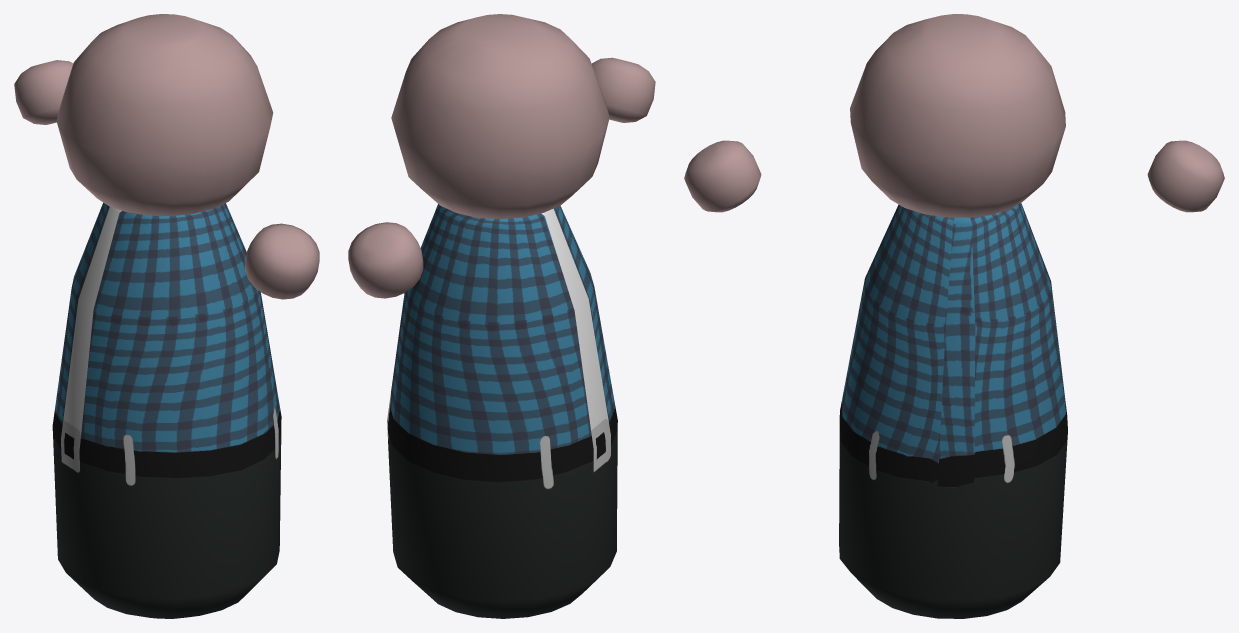
Rendered from Bandmember2.fbx.
3 renders of one model, left to right at view 1: azimuth 30°, elevation 25°; view 2: azimuth 150°, elevation 25°; view 3: azimuth 270°, elevation 25°, orthographic.
Parts seen in each view (by area): view 1: Body, Head, Right_Hand, Left_Hand; view 2: Body, Head, Left_Hand, Right_Hand; view 3: Body, Head, Left_Hand, Right_Hand.
Part boxes in pixels (left/top/right/bottom): Body: left=52, top=202, right=281, bottom=618; Head: left=56, top=14, right=273, bottom=216; Right_Hand: left=245, top=223, right=319, bottom=299; Left_Hand: left=14, top=60, right=73, bottom=124; Body: left=387, top=204, right=617, bottom=618; Head: left=391, top=14, right=609, bottom=219; Left_Hand: left=348, top=222, right=423, bottom=298; Right_Hand: left=591, top=57, right=655, bottom=122; Body: left=839, top=203, right=1067, bottom=618; Head: left=850, top=14, right=1065, bottom=217; Left_Hand: left=1147, top=140, right=1224, bottom=212; Right_Hand: left=684, top=140, right=761, bottom=212.
Bounding box in the file's own units: 1.29 × 3.56 × 3.06.
